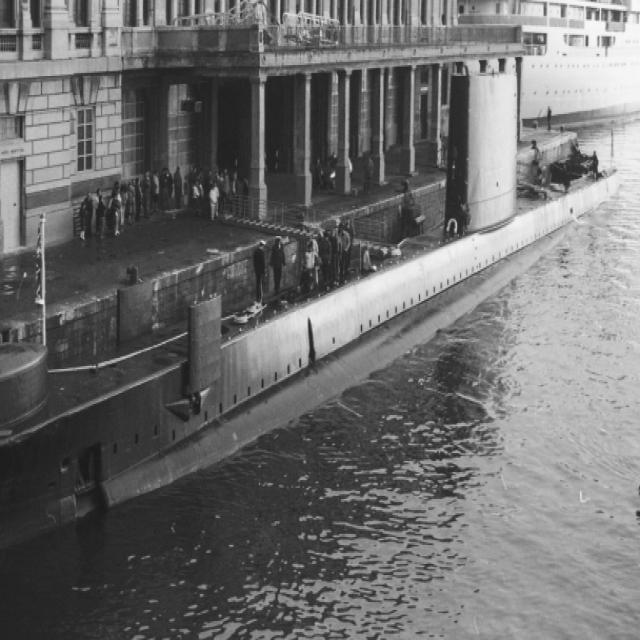submarine: (1, 57, 620, 583)
